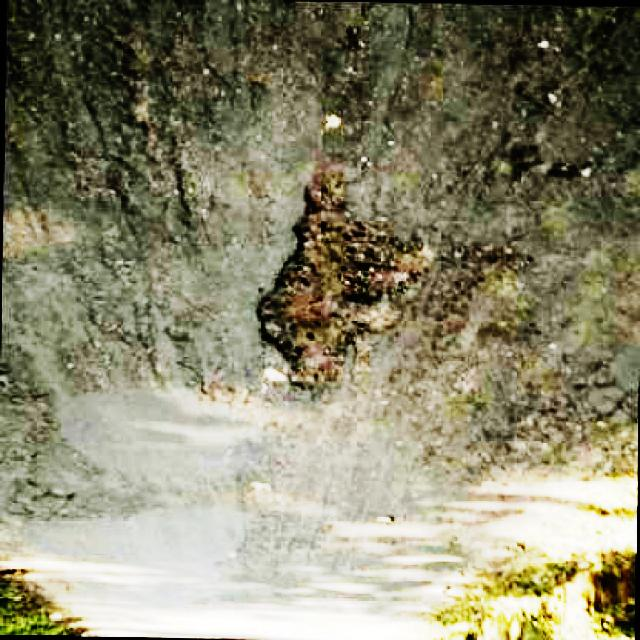pothole: (256, 183, 447, 397)
